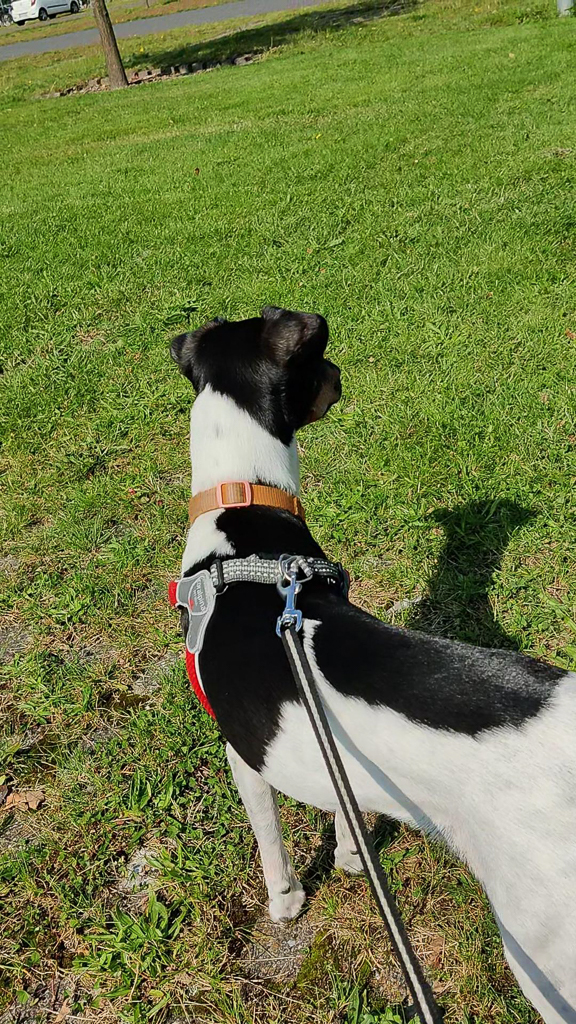Dog: (152, 298, 576, 1024)
